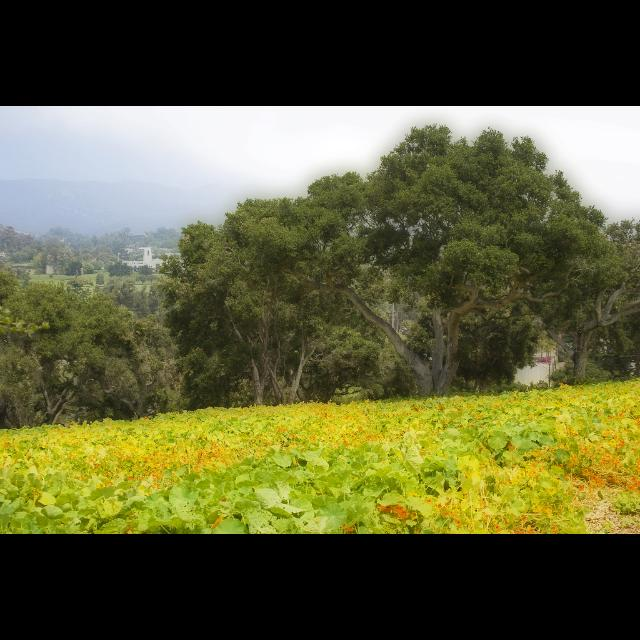Flower: (1, 382, 640, 534)
